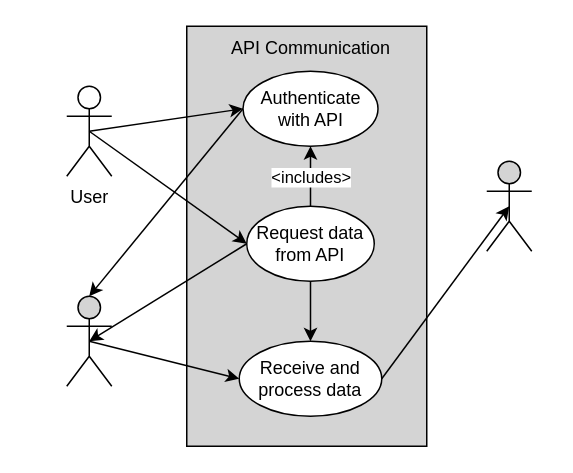
Image size: 573x473. Some labels were removed from this diagram. The centre of each missing label's shape, as x and y in pixels:
"API (ex. Strava)" goes at pixel 88 340.
"Database" goes at pixel 508 205.
